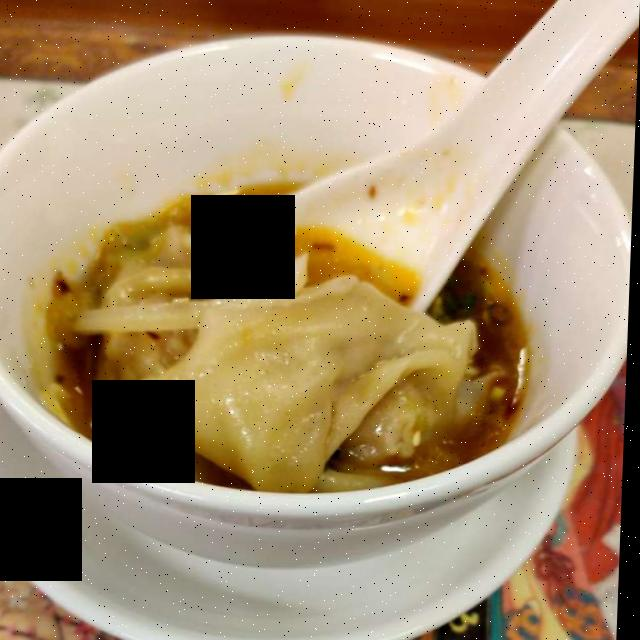bouillon: (46, 183, 533, 479)
pasta-ravioli-stuffing: (96, 215, 500, 483)
